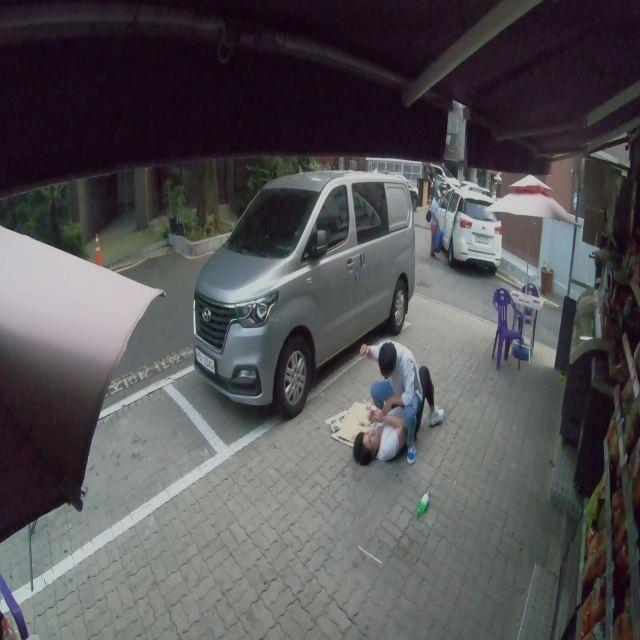fight: (344, 337, 446, 469)
